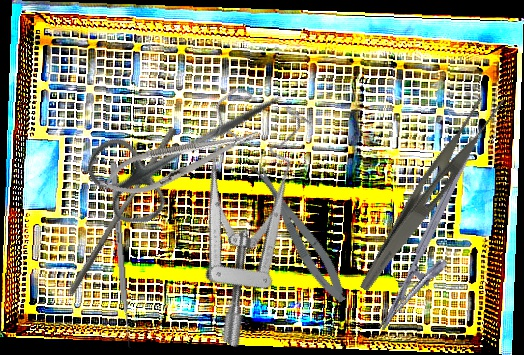Dressing Forceps: (358, 83, 508, 305)
Iris Scissors: (78, 53, 303, 236)
Micro Scissor: (247, 155, 353, 309)
Needle Holder: (376, 151, 496, 343), (94, 116, 266, 206)
Pusher: (66, 122, 178, 301), (109, 162, 133, 349)
Speculum: (116, 74, 356, 350)
